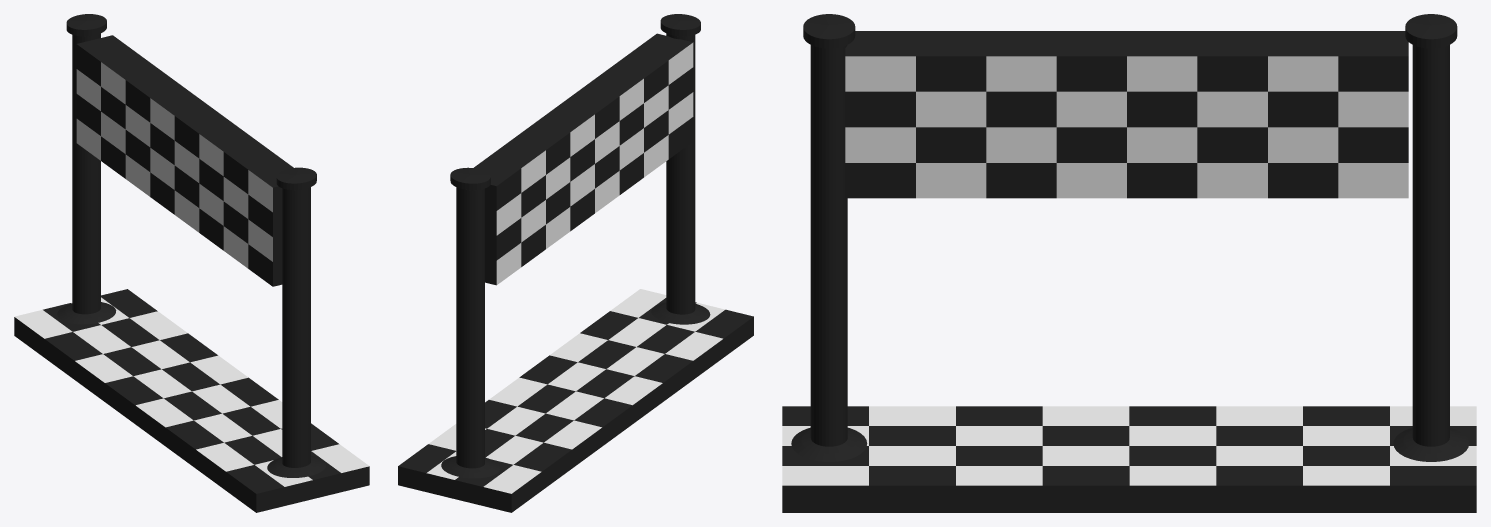
File: Finish_Line.fbx
3 views of the same model, side by side, from view 1: azimuth 30°, elevation 25°; view 2: azimuth 150°, elevation 25°; view 3: azimuth 270°, elevation 25° (orthographic). The views are drawn at different scales.
Parts seen in each view (by area): view 1: Cube.001, Cube, Cylinder.002, Cylinder.001; view 2: Cube.001, Cube, Cylinder.001, Cylinder.002; view 3: Cube, Cube.001, Cylinder.001, Cylinder.002.
Part boxes in pixels (x1,y1,x2,y2): Cube.001: (14, 289, 369, 512); Cube: (76, 35, 293, 286); Cylinder.002: (267, 167, 325, 477); Cylinder.001: (57, 14, 116, 324); Cube.001: (398, 289, 753, 512); Cube: (474, 33, 693, 285); Cylinder.001: (441, 167, 499, 478); Cylinder.002: (651, 14, 710, 324); Cube: (845, 31, 1408, 198); Cube.001: (782, 406, 1476, 512); Cylinder.001: (1393, 14, 1469, 461); Cylinder.002: (791, 14, 867, 461).
Bounding box in the file's own units: 142 × 374 × 526.
Materials: 4 (4 with a texture image).
